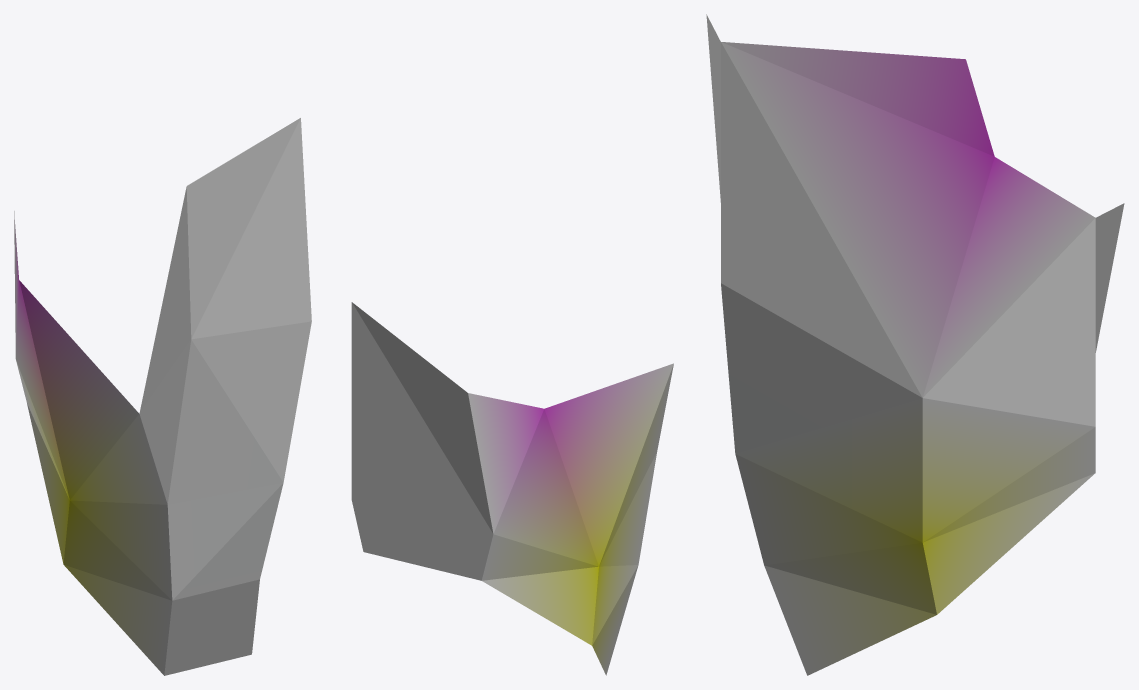
3 views of the same model, side by side, from view 1: azimuth 30°, elevation 25°; view 2: azimuth 150°, elevation 25°; view 3: azimuth 270°, elevation 25° (orthographic). The views are drawn at different scales.
Parts seen in each view (by area): view 1: model_113B; view 2: model_113B; view 3: model_113B.
Part boxes in pixels (bbox=[...]): model_113B: bbox=[14, 118, 311, 675]; model_113B: bbox=[351, 302, 673, 675]; model_113B: bbox=[706, 14, 1124, 675].
Size of the model in its own units: 20 by 50 by 29.
